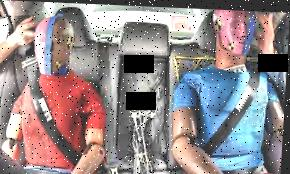seatbelt: (178, 46, 268, 174), (15, 39, 85, 161), (88, 38, 127, 174)
